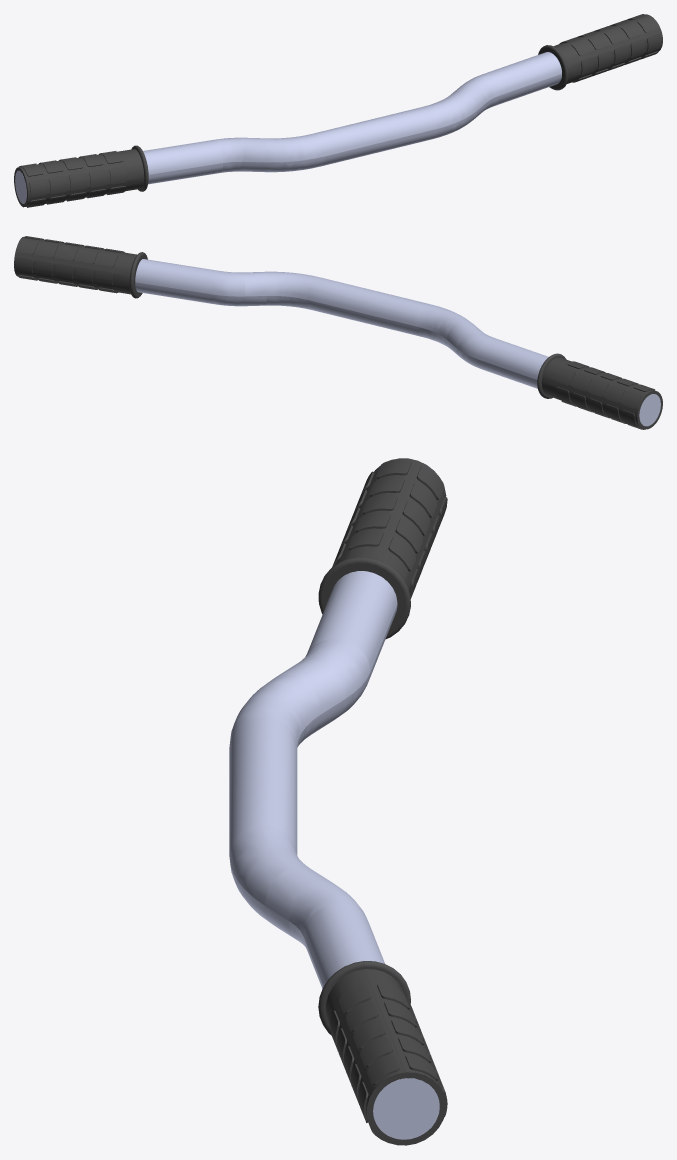
The model's file is hbar_opt.glb.
The picture shows the model from 3 angles, top to bottom: view 1: azimuth 30°, elevation 25°; view 2: azimuth 150°, elevation 25°; view 3: azimuth 270°, elevation 25°; orthographic projection. The views are drawn at different scales.
Parts seen in each view (by area): view 1: empty_2, empty_3; view 2: empty_2, empty_3; view 3: empty_2, empty_3.
Part boxes in pixels (x1,y1,x2,y2): empty_2: (15, 52, 561, 203); empty_3: (14, 14, 662, 207); empty_2: (135, 259, 660, 426); empty_3: (14, 236, 662, 429); empty_2: (229, 571, 439, 1139); empty_3: (318, 458, 447, 1145).
Size of the model in its own units: 686 by 43.98 by 102.
